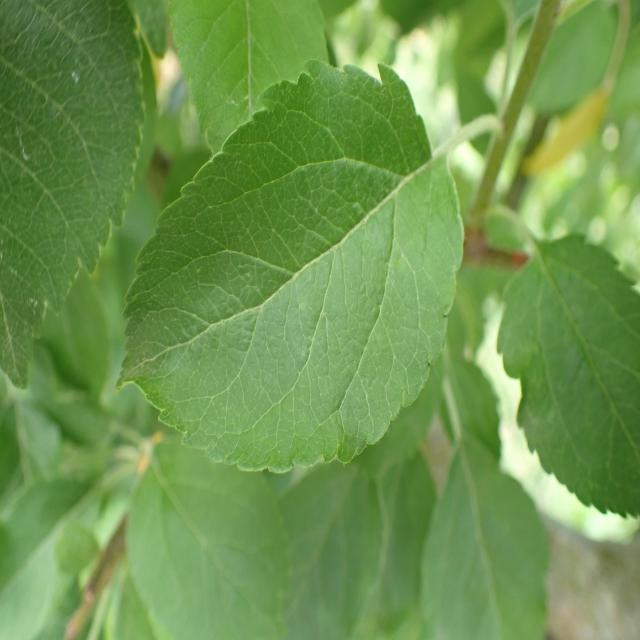healthy: (114, 59, 464, 474), (0, 0, 146, 391), (496, 230, 640, 520), (167, 0, 330, 158)
